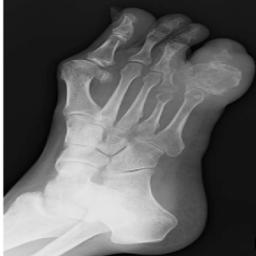cancer: (184, 63, 239, 95)
